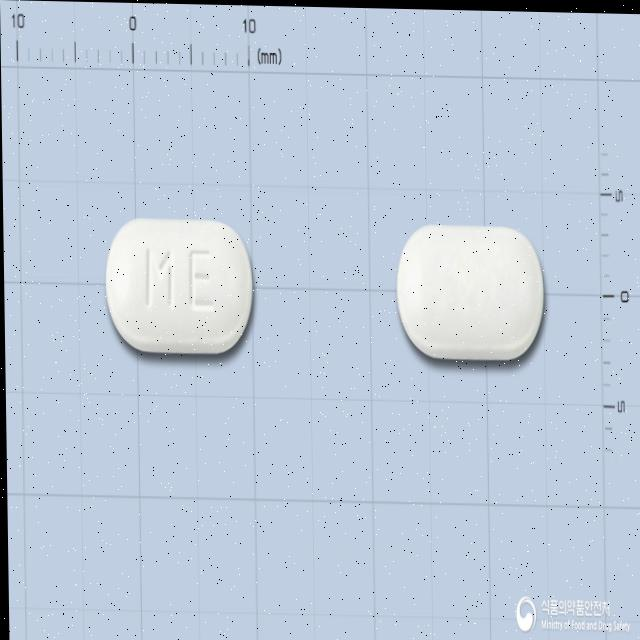Meiact Tab- Boryung: (104, 218, 254, 356)
